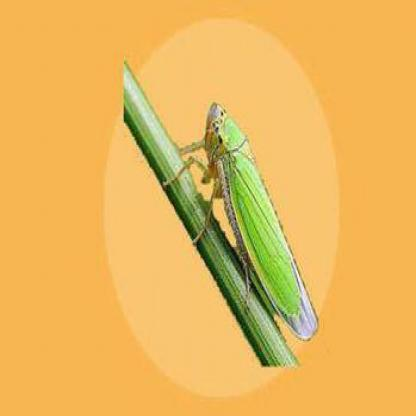Green-Leafhopper: (160, 101, 319, 348)
